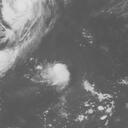cyclone: (41, 62, 71, 91)
